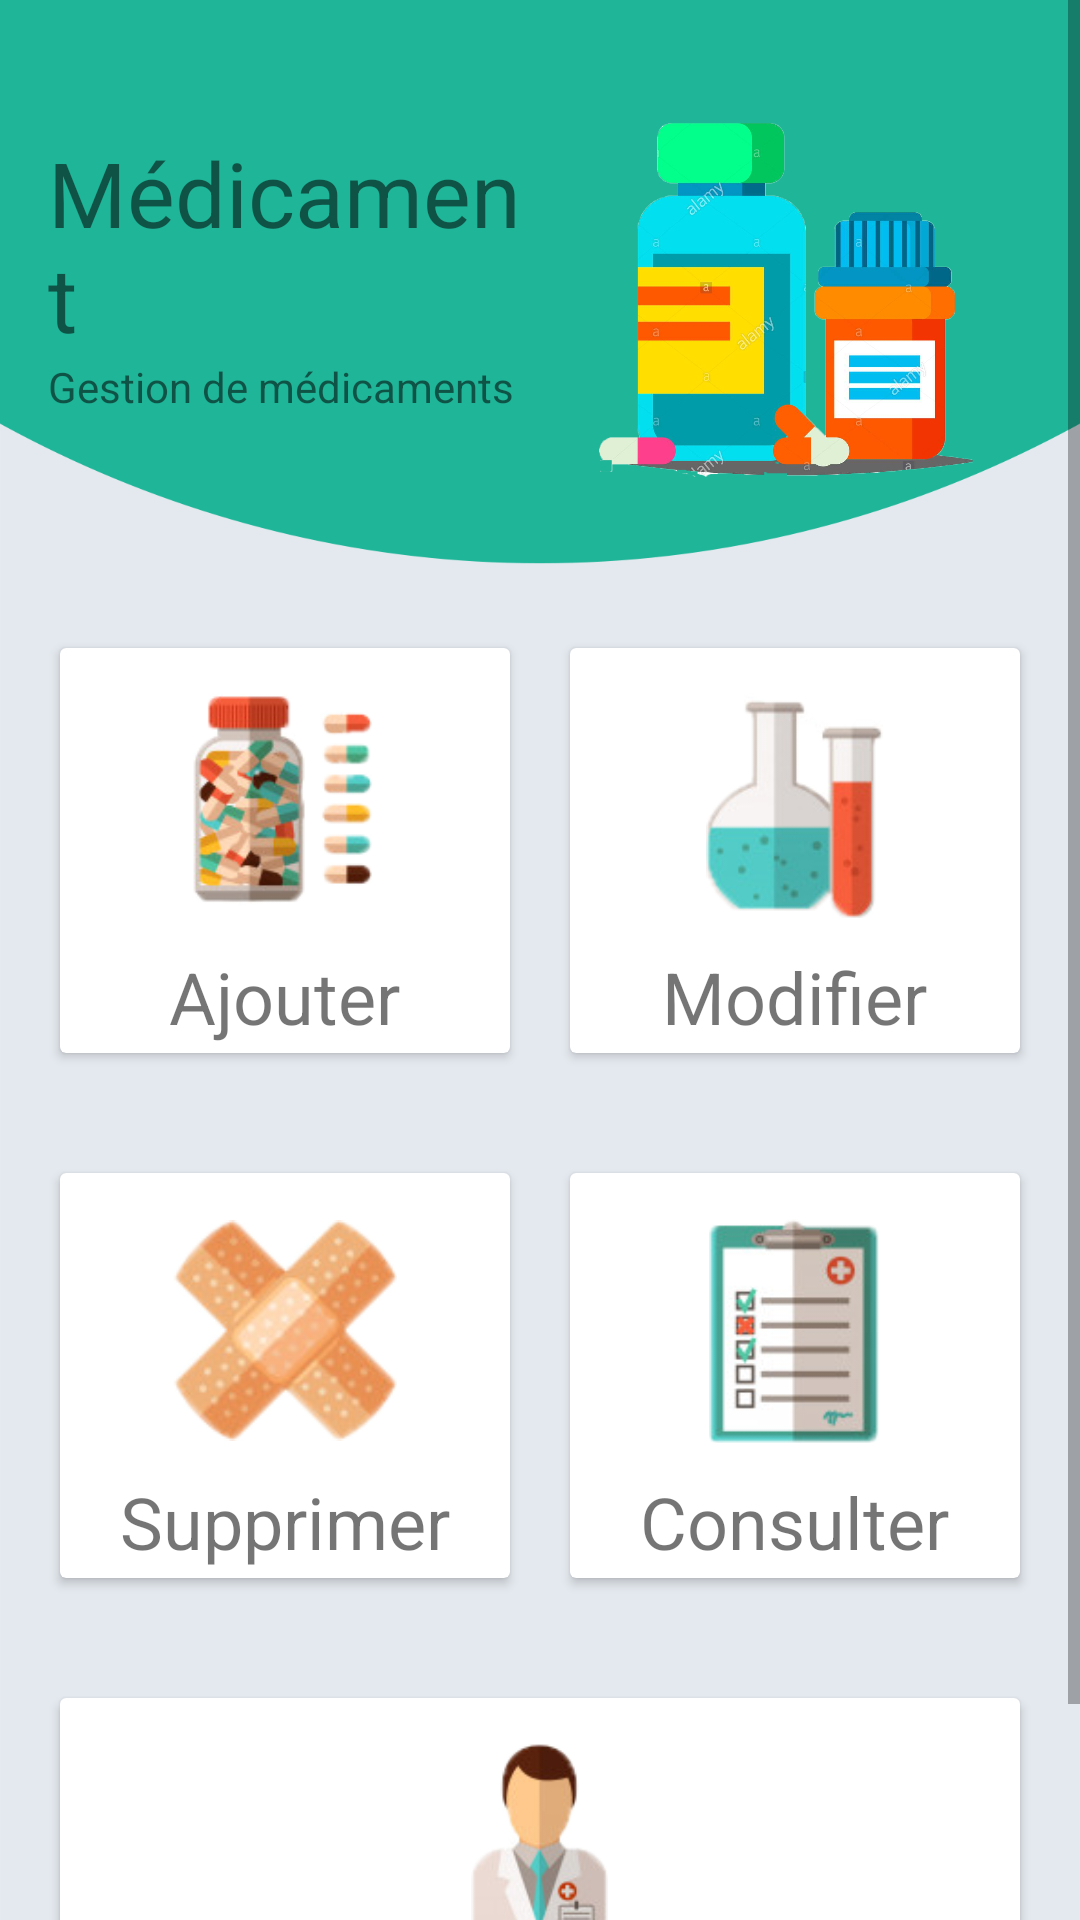

Icons on this 1080px x 1920px Android screen, each with its box as (x1, y1, x2, y2):
select: (709, 1221, 878, 1443)
